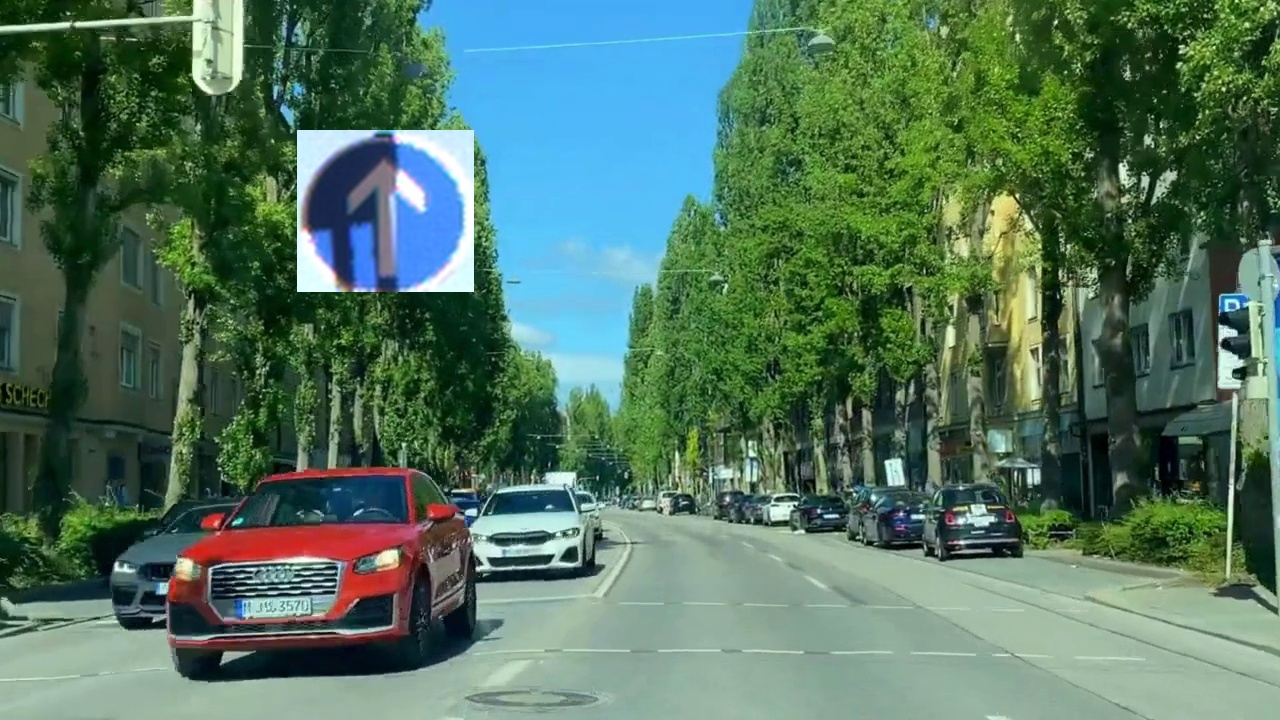Ahead only: (297, 130, 474, 292)
